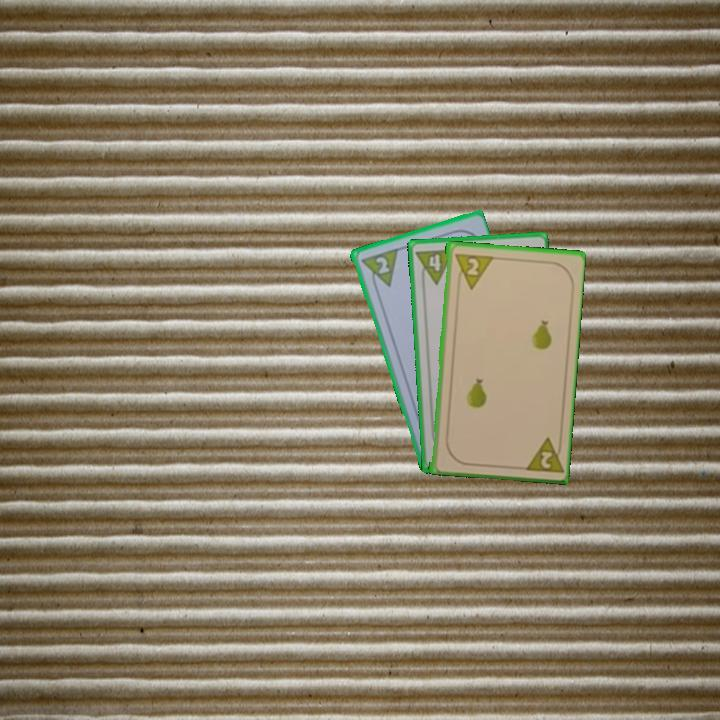2p: (357, 244, 400, 293), (519, 433, 564, 475), (450, 249, 494, 291)
4p: (413, 245, 457, 288)
